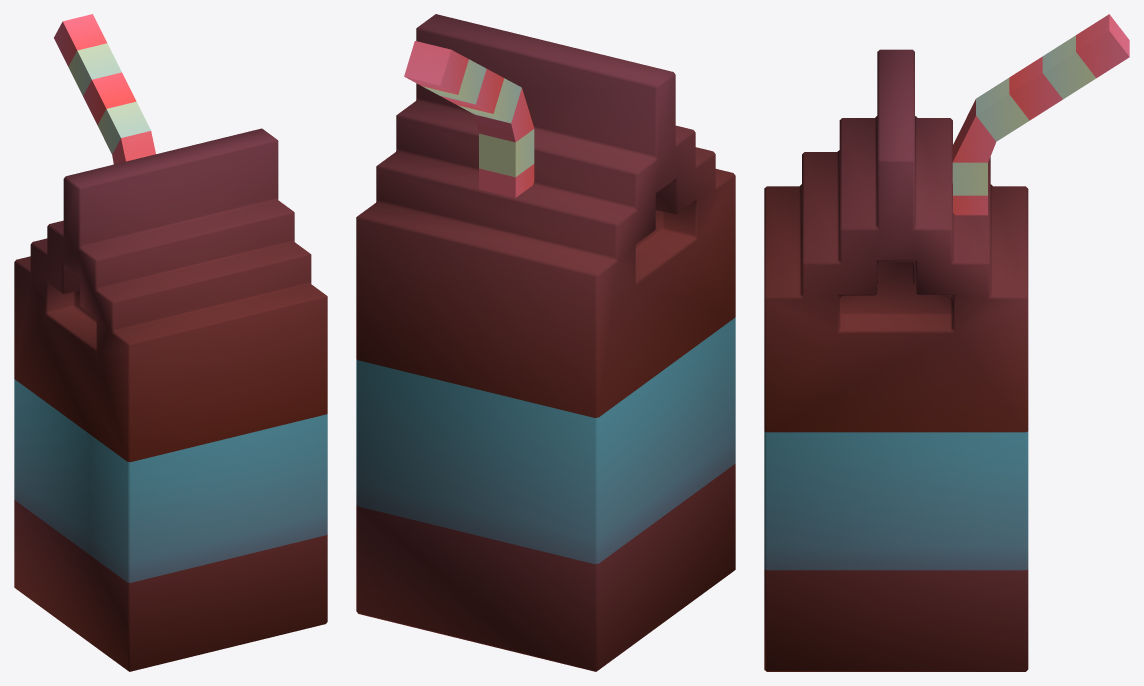
File: Kakao.fbx
3 renders of one model, left to right at view 1: azimuth 30°, elevation 25°; view 2: azimuth 150°, elevation 25°; view 3: azimuth 270°, elevation 25°, orthographic. The views are drawn at different scales.
Parts seen in each view (by area): view 1: Cacao; view 2: Cacao; view 3: Cacao.
Boxes of the visible parts, <box> form: Cacao: <box>14,14,327,671</box>; Cacao: <box>356,14,735,671</box>; Cacao: <box>764,14,1129,671</box>.
Bounding box in the file's own units: 50.87 × 126 × 70.41.
